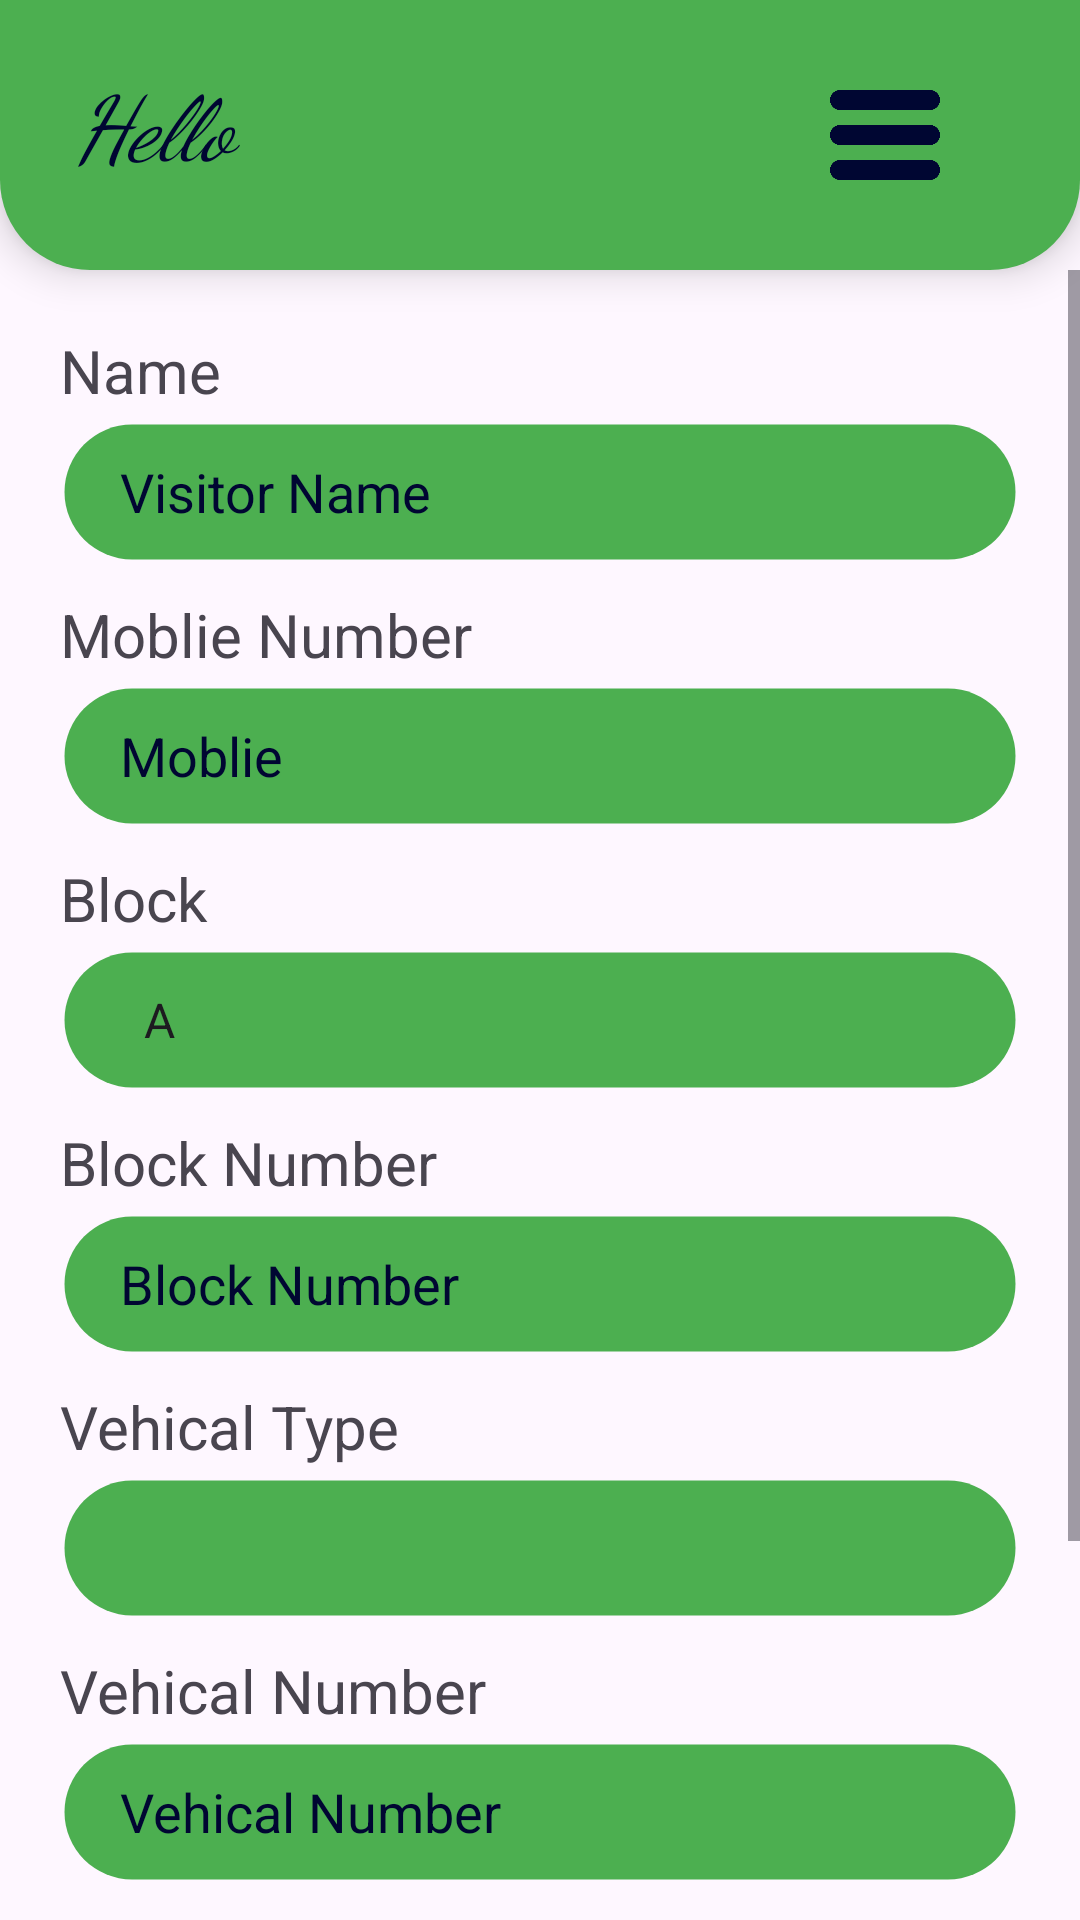

Named icons in this screenshot (1080*1920) and their bounding boxes, region(x1, y1, x2, y2):
menus: region(830, 90, 940, 180)
